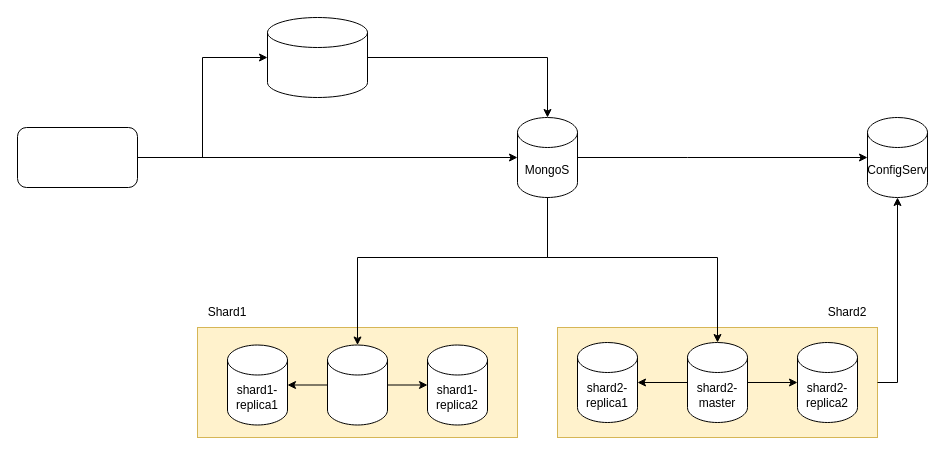
Image size: 945x455. Some labels were removed from this diagram. Here are the shapes that lost their labels. From the top down, the centre of each, then its label:
pixel 317 57: RedisCache
pixel 77 157: pymongo-api
pixel 357 384: shard1-master
